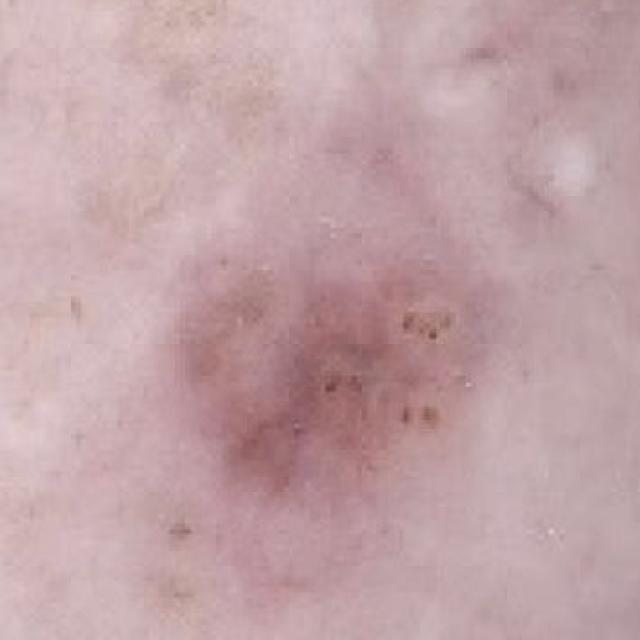AKIEC: (52, 39, 544, 601)
